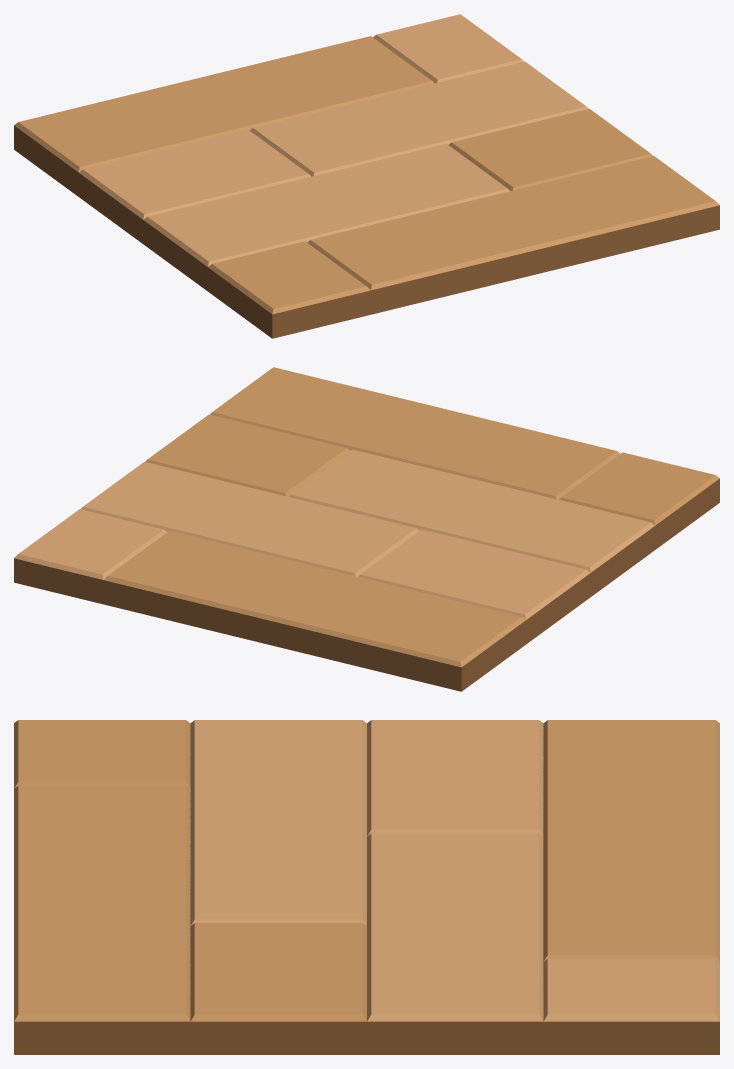
File: boden_holz_b.glb
3 views of the same model, one above another, from view 1: azimuth 30°, elevation 25°; view 2: azimuth 150°, elevation 25°; view 3: azimuth 270°, elevation 25° (orthographic). The views are drawn at different scales.
Parts seen in each view (by area): view 1: boden_holz_b; view 2: boden_holz_b; view 3: boden_holz_b.
Part boxes in pixels (x1,y1,x2,y2): boden_holz_b: (14,14,719,338); boden_holz_b: (14,367,719,691); boden_holz_b: (14,720,719,1054).
Bounding box in the file's own units: 1 × 0.06 × 1.
